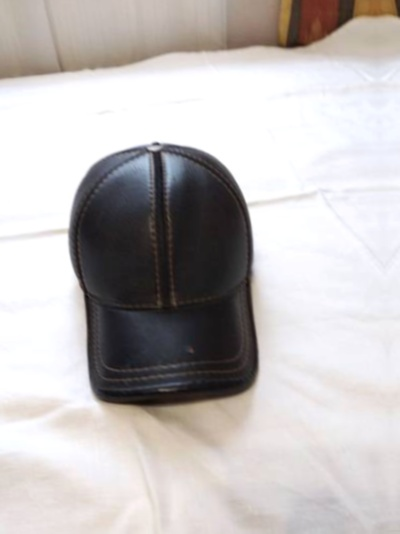Hat: (47, 119, 300, 428)
